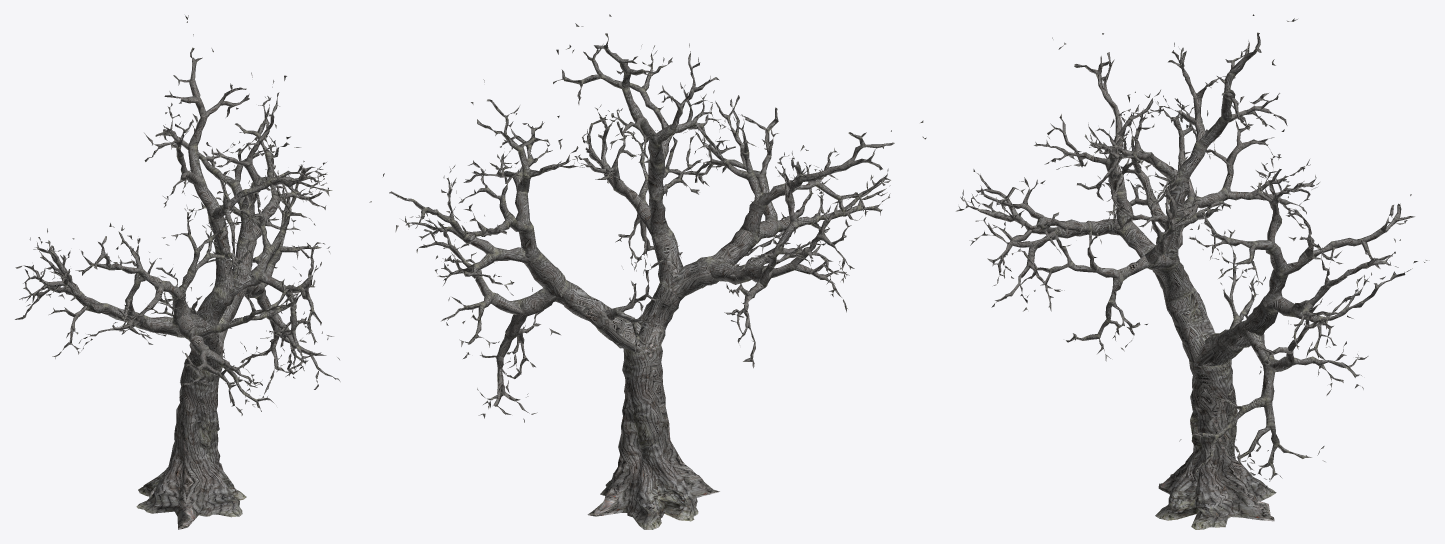
Rendered from tree-linden.glb.
3 renders of one model, left to right at view 1: azimuth 30°, elevation 25°; view 2: azimuth 150°, elevation 25°; view 3: azimuth 270°, elevation 25°, orthographic. The views are drawn at different scales.
Parts seen in each view (by area): view 1: linden; view 2: linden; view 3: linden.
Part boxes in pixels (box(x1,y1,x2,y2)): linden: box(15, 15, 340, 529); linden: box(369, 14, 926, 529); linden: box(956, 14, 1429, 529).
Size of the model in its own units: 18.48 by 22.1 by 18.89.
1 material, 1 textured.
